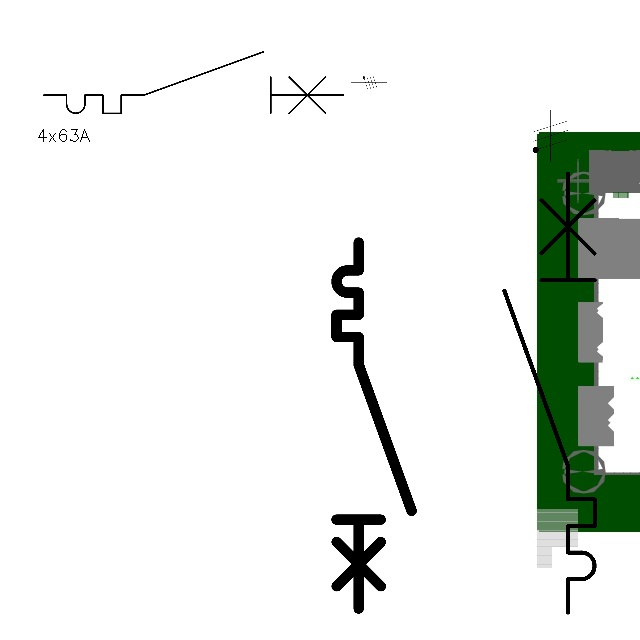interruptor_termomagnetico: (493, 162, 606, 624), (327, 233, 421, 618), (36, 44, 352, 121)
